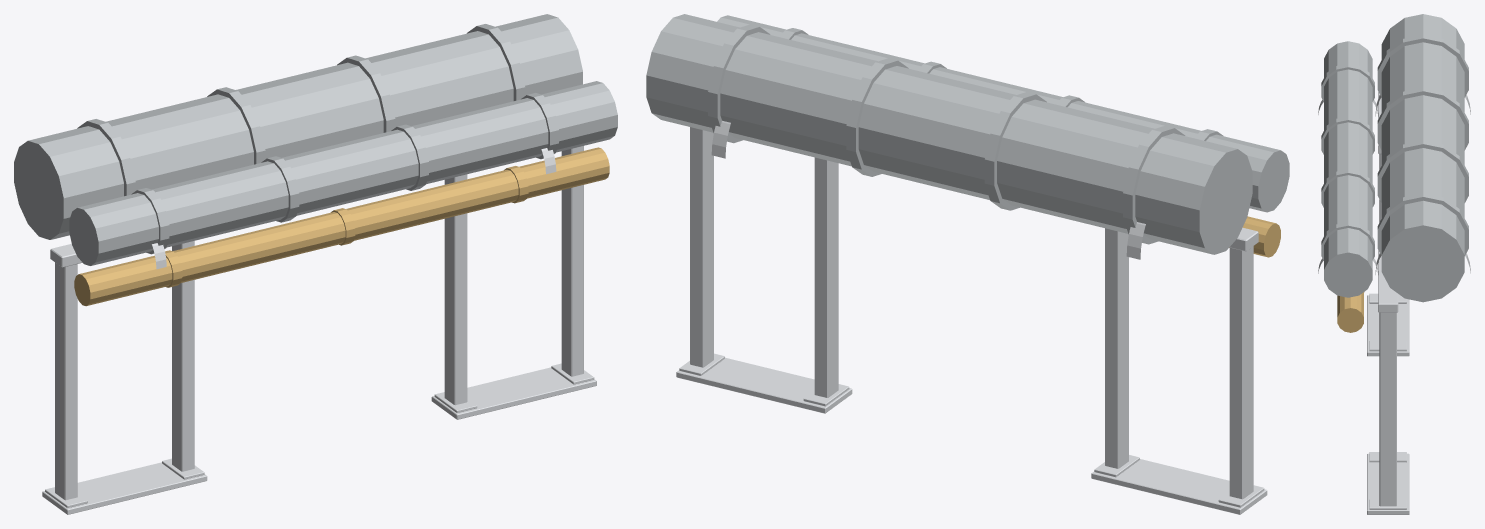
Rendered from nuclear-power-station-and-control-room-main-steam-pipe-e86175f2__36905.glb.
3 views of the same model, side by side, from view 1: azimuth 30°, elevation 25°; view 2: azimuth 150°, elevation 25°; view 3: azimuth 270°, elevation 25° (orthographic). The views are drawn at different scales.
Visible parts, largest first — view 1: main-steam-pipe-run; view 2: main-steam-pipe-run; view 3: main-steam-pipe-run.
Boxes of the visible parts, box(x1,y1,x2,y2) form: main-steam-pipe-run: box(14, 14, 617, 514); main-steam-pipe-run: box(646, 14, 1289, 514); main-steam-pipe-run: box(1318, 14, 1470, 514).
Bounding box in the file's own units: 4.08 × 2.57 × 1.22.
